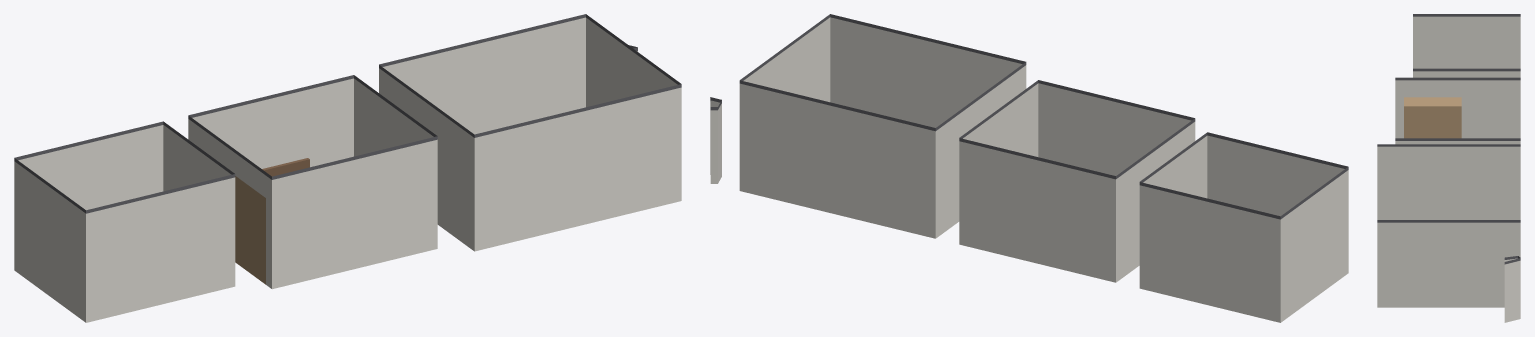
3 views of the same model, side by side, from view 1: azimuth 30°, elevation 25°; view 2: azimuth 150°, elevation 25°; view 3: azimuth 270°, elevation 25° (orthographic). The views are drawn at different scales.
Parts seen in each view (by area): view 1: House; view 2: House; view 3: House.
Boxes of the visible parts, box(x1,y1,x2,y2) form: House: box(14, 14, 681, 322); House: box(710, 14, 1348, 322); House: box(1377, 14, 1520, 322).
Bounding box in the file's own units: 14.8 × 2.7 × 4.
